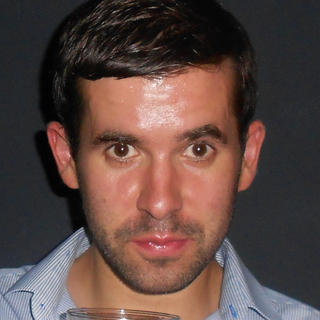eye: (177, 138, 220, 164), (99, 138, 142, 163)
